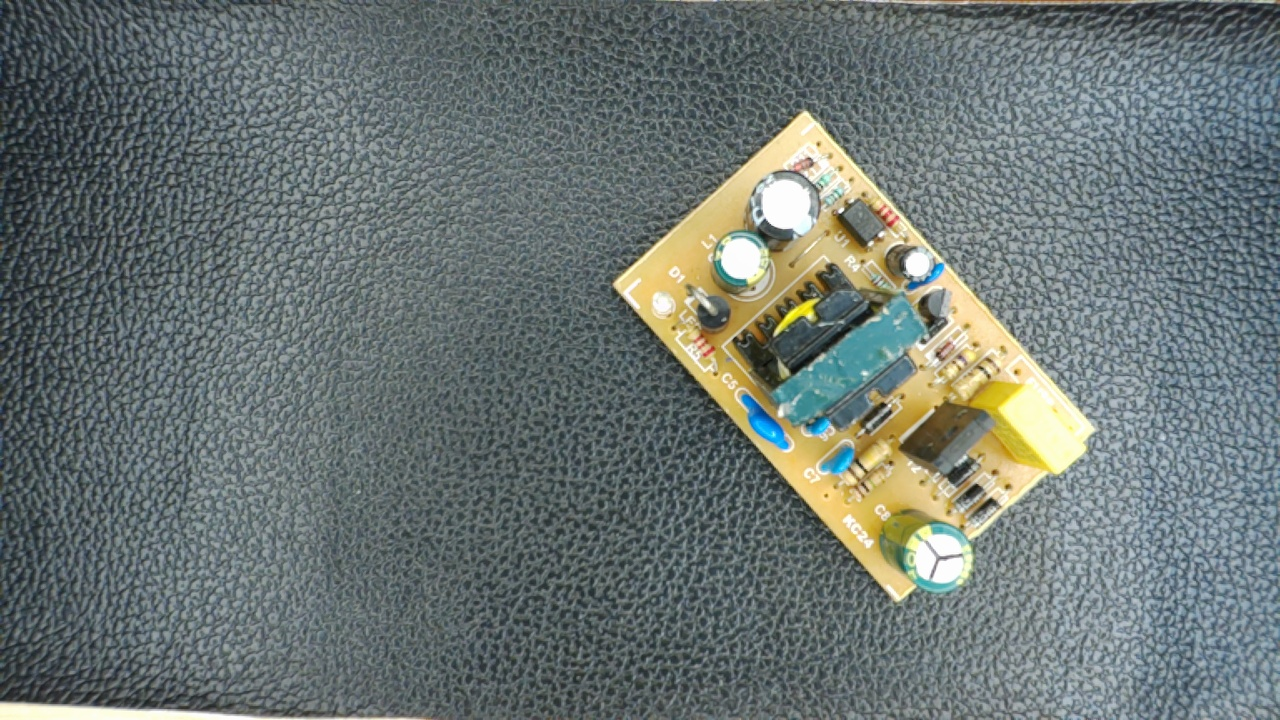hv_capacitor: (876, 506, 975, 594)
mov: (734, 390, 795, 456)
optocoupler: (828, 192, 890, 249)
